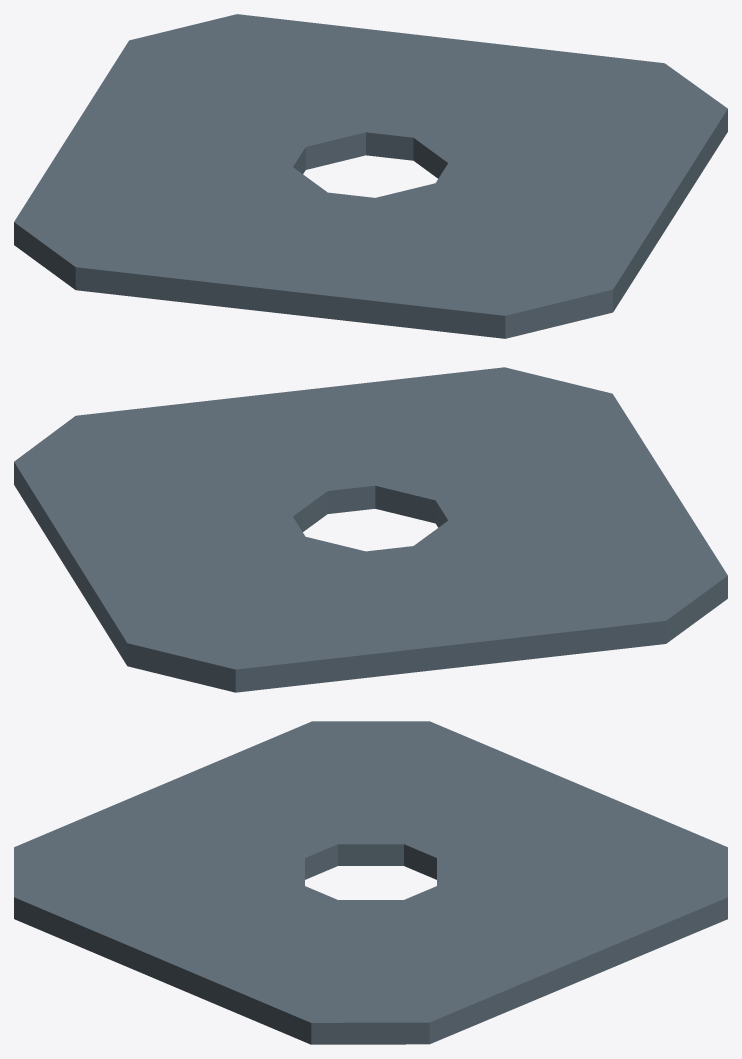
Rendered from waterFountain_basinWater.fbx.
The picture shows the model from 3 angles, top to bottom: view 1: azimuth 30°, elevation 25°; view 2: azimuth 150°, elevation 25°; view 3: azimuth 270°, elevation 25°; orthographic projection. The views are drawn at different scales.
Visible parts, largest first — view 1: waterFountain_basinWater; view 2: waterFountain_basinWater; view 3: waterFountain_basinWater.
Part boxes in pixels (<box>): waterFountain_basinWater: <box>14,14,727,338</box>; waterFountain_basinWater: <box>14,367,727,692</box>; waterFountain_basinWater: <box>14,721,727,1044</box>.
Size of the model in its own units: 460 by 15.55 by 460.
